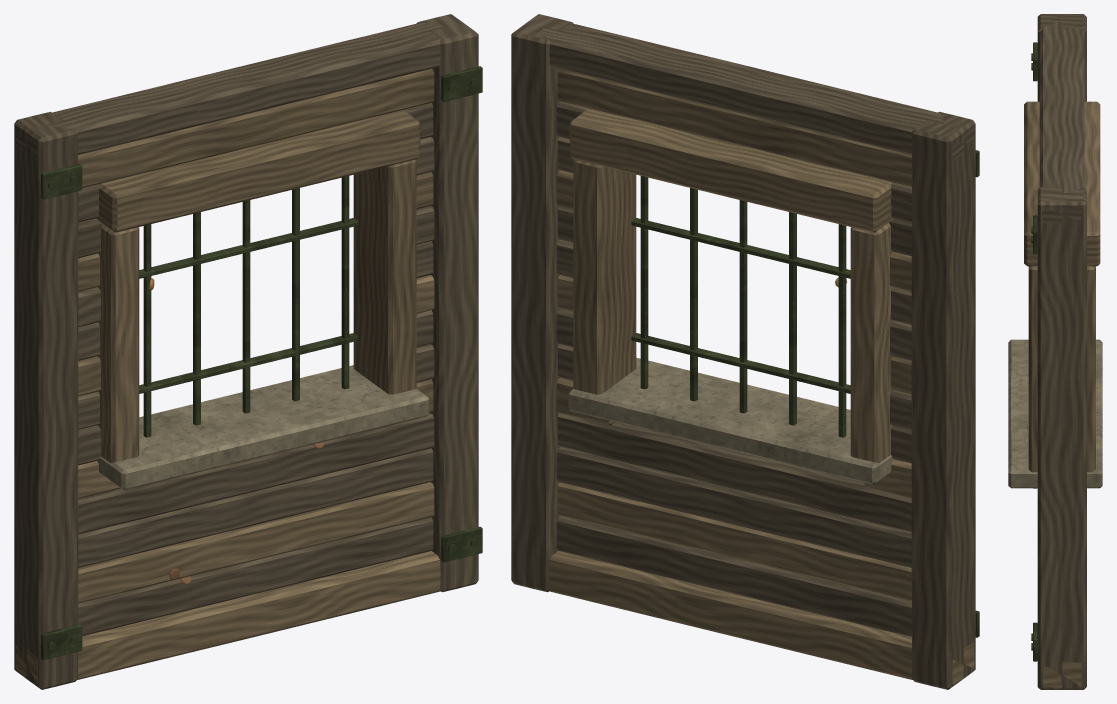
The picture shows the model from 3 angles, left to right: view 1: azimuth 30°, elevation 25°; view 2: azimuth 150°, elevation 25°; view 3: azimuth 270°, elevation 25°; orthographic projection. The views are drawn at different scales.
Visible parts, largest first — view 1: quarter-sawn-timber, exposed-end-grain, sandstone-edges, olive-painted-field-steel; view 2: quarter-sawn-timber, exposed-end-grain, sandstone-edges, olive-painted-field-steel; view 3: quarter-sawn-timber, exposed-end-grain, sandstone-edges, olive-painted-field-steel.
Boxes of the visible parts, x1,y1,x2,y2 form: quarter-sawn-timber: [14, 14, 478, 689]; exposed-end-grain: [15, 68, 440, 684]; sandstone-edges: [97, 365, 429, 490]; olive-painted-field-steel: [40, 66, 482, 660]; quarter-sawn-timber: [511, 14, 975, 689]; exposed-end-grain: [549, 69, 974, 684]; sandstone-edges: [568, 357, 893, 484]; olive-painted-field-steel: [631, 150, 979, 637]; quarter-sawn-timber: [1037, 14, 1086, 689]; exposed-end-grain: [1024, 101, 1100, 689]; sandstone-edges: [1008, 339, 1102, 488]; olive-painted-field-steel: [1031, 42, 1037, 661].
Bounding box in the file's own units: 2 × 2.4 × 0.42.
7 materials, 5 textured.
